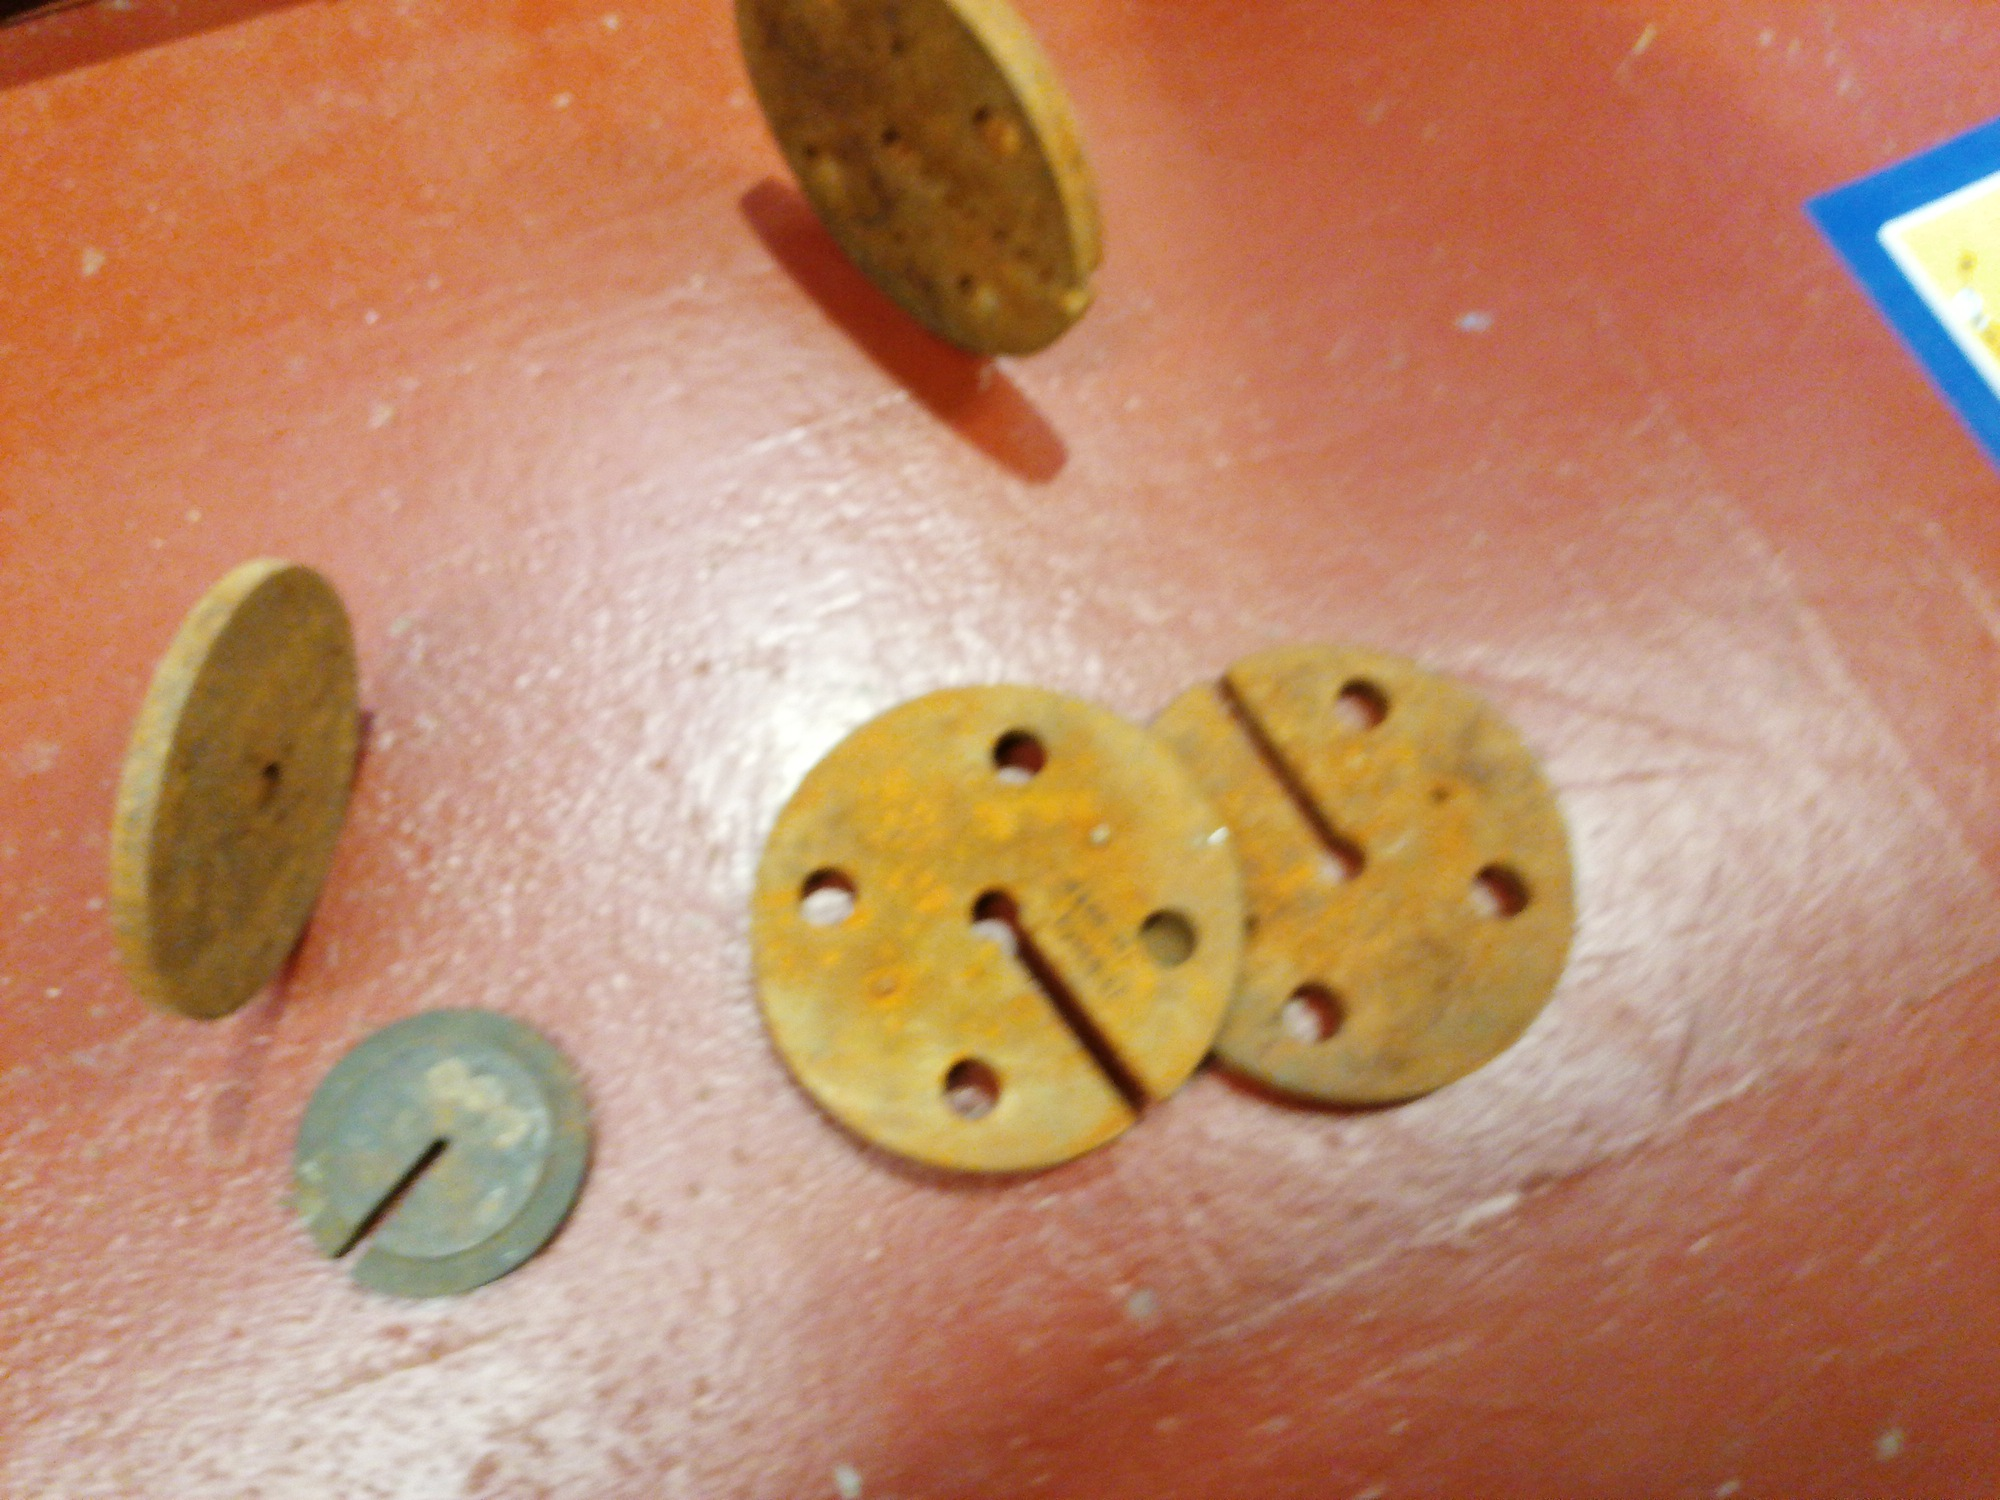flange: (750, 684, 1246, 1174), (1143, 644, 1576, 1116), (732, 0, 1110, 358), (106, 555, 367, 1019), (287, 1005, 594, 1297)
